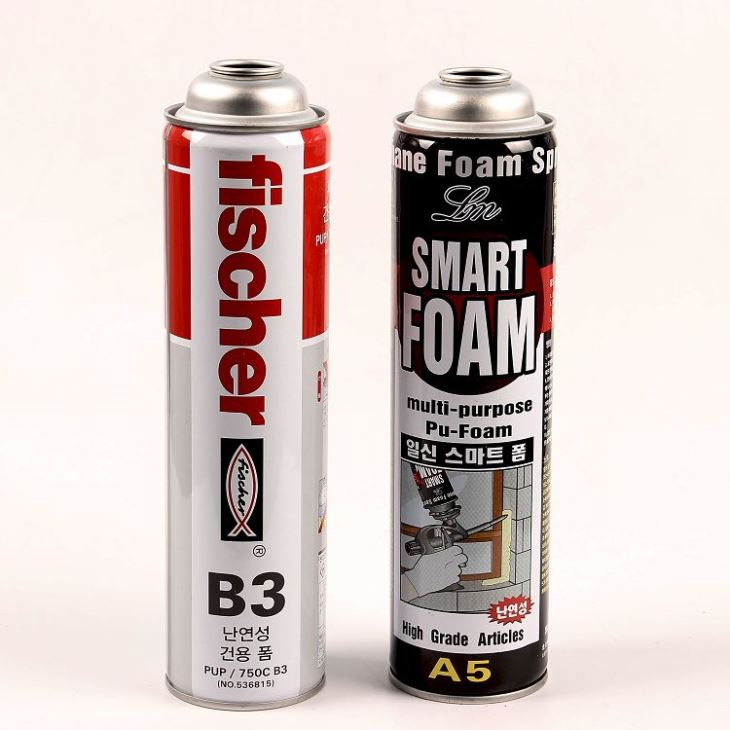Aerosol_cans: (160, 54, 333, 716), (389, 64, 561, 709)
